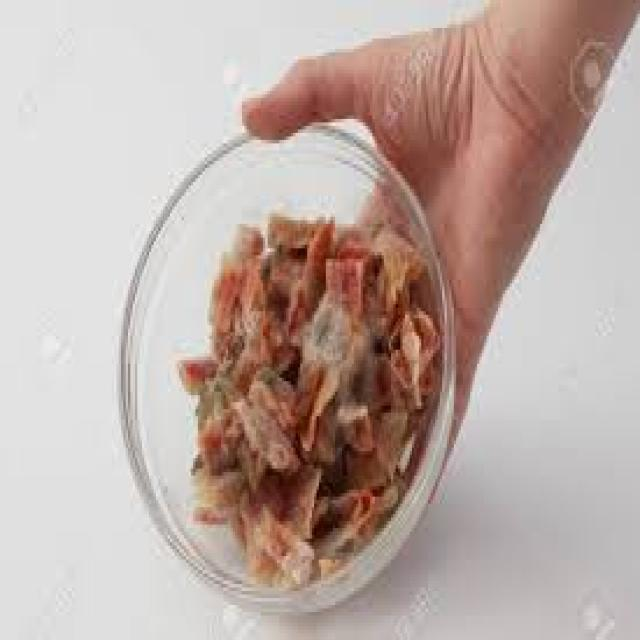biodegradable: (179, 213, 433, 584), (312, 325, 389, 472), (230, 486, 312, 591), (291, 301, 351, 441), (203, 217, 266, 350), (221, 392, 300, 486), (365, 220, 419, 329), (380, 304, 436, 409), (247, 360, 310, 441), (272, 458, 326, 546), (345, 399, 403, 476), (298, 207, 335, 326), (189, 402, 249, 472), (186, 469, 256, 528), (317, 252, 366, 318), (314, 486, 370, 539), (259, 210, 317, 245), (177, 353, 223, 395), (331, 217, 373, 252), (363, 476, 403, 504)
glass: (116, 116, 454, 609)
